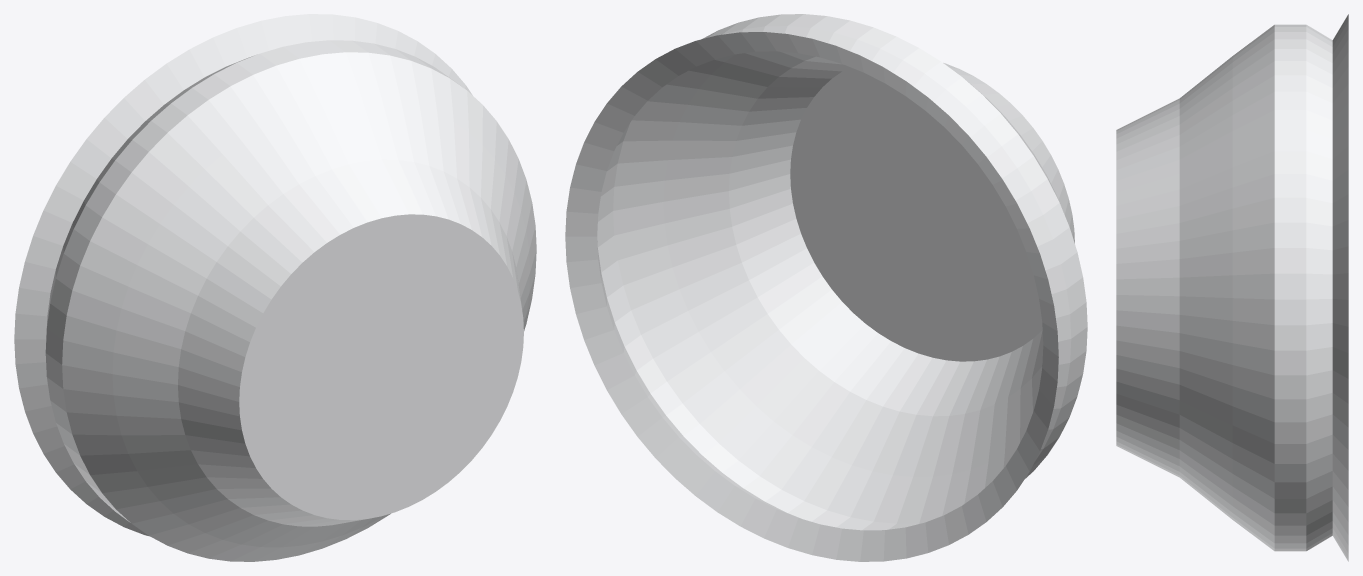
Rendered from chenghua-chicken-cup.glb.
The picture shows the model from 3 angles, left to right: view 1: azimuth 30°, elevation 25°; view 2: azimuth 150°, elevation 25°; view 3: azimuth 270°, elevation 25°; orthographic projection. The views are drawn at different scales.
Parts seen in each view (by area): view 1: cup; view 2: cup; view 3: cup.
Boxes of the visible parts, box(x1,y1,x2,y2) form: cup: box(14, 14, 536, 561); cup: box(565, 14, 1087, 561); cup: box(1116, 14, 1348, 561).
Size of the model in its own units: 0.104 by 0.104 by 0.044.
1 material, 1 textured.
